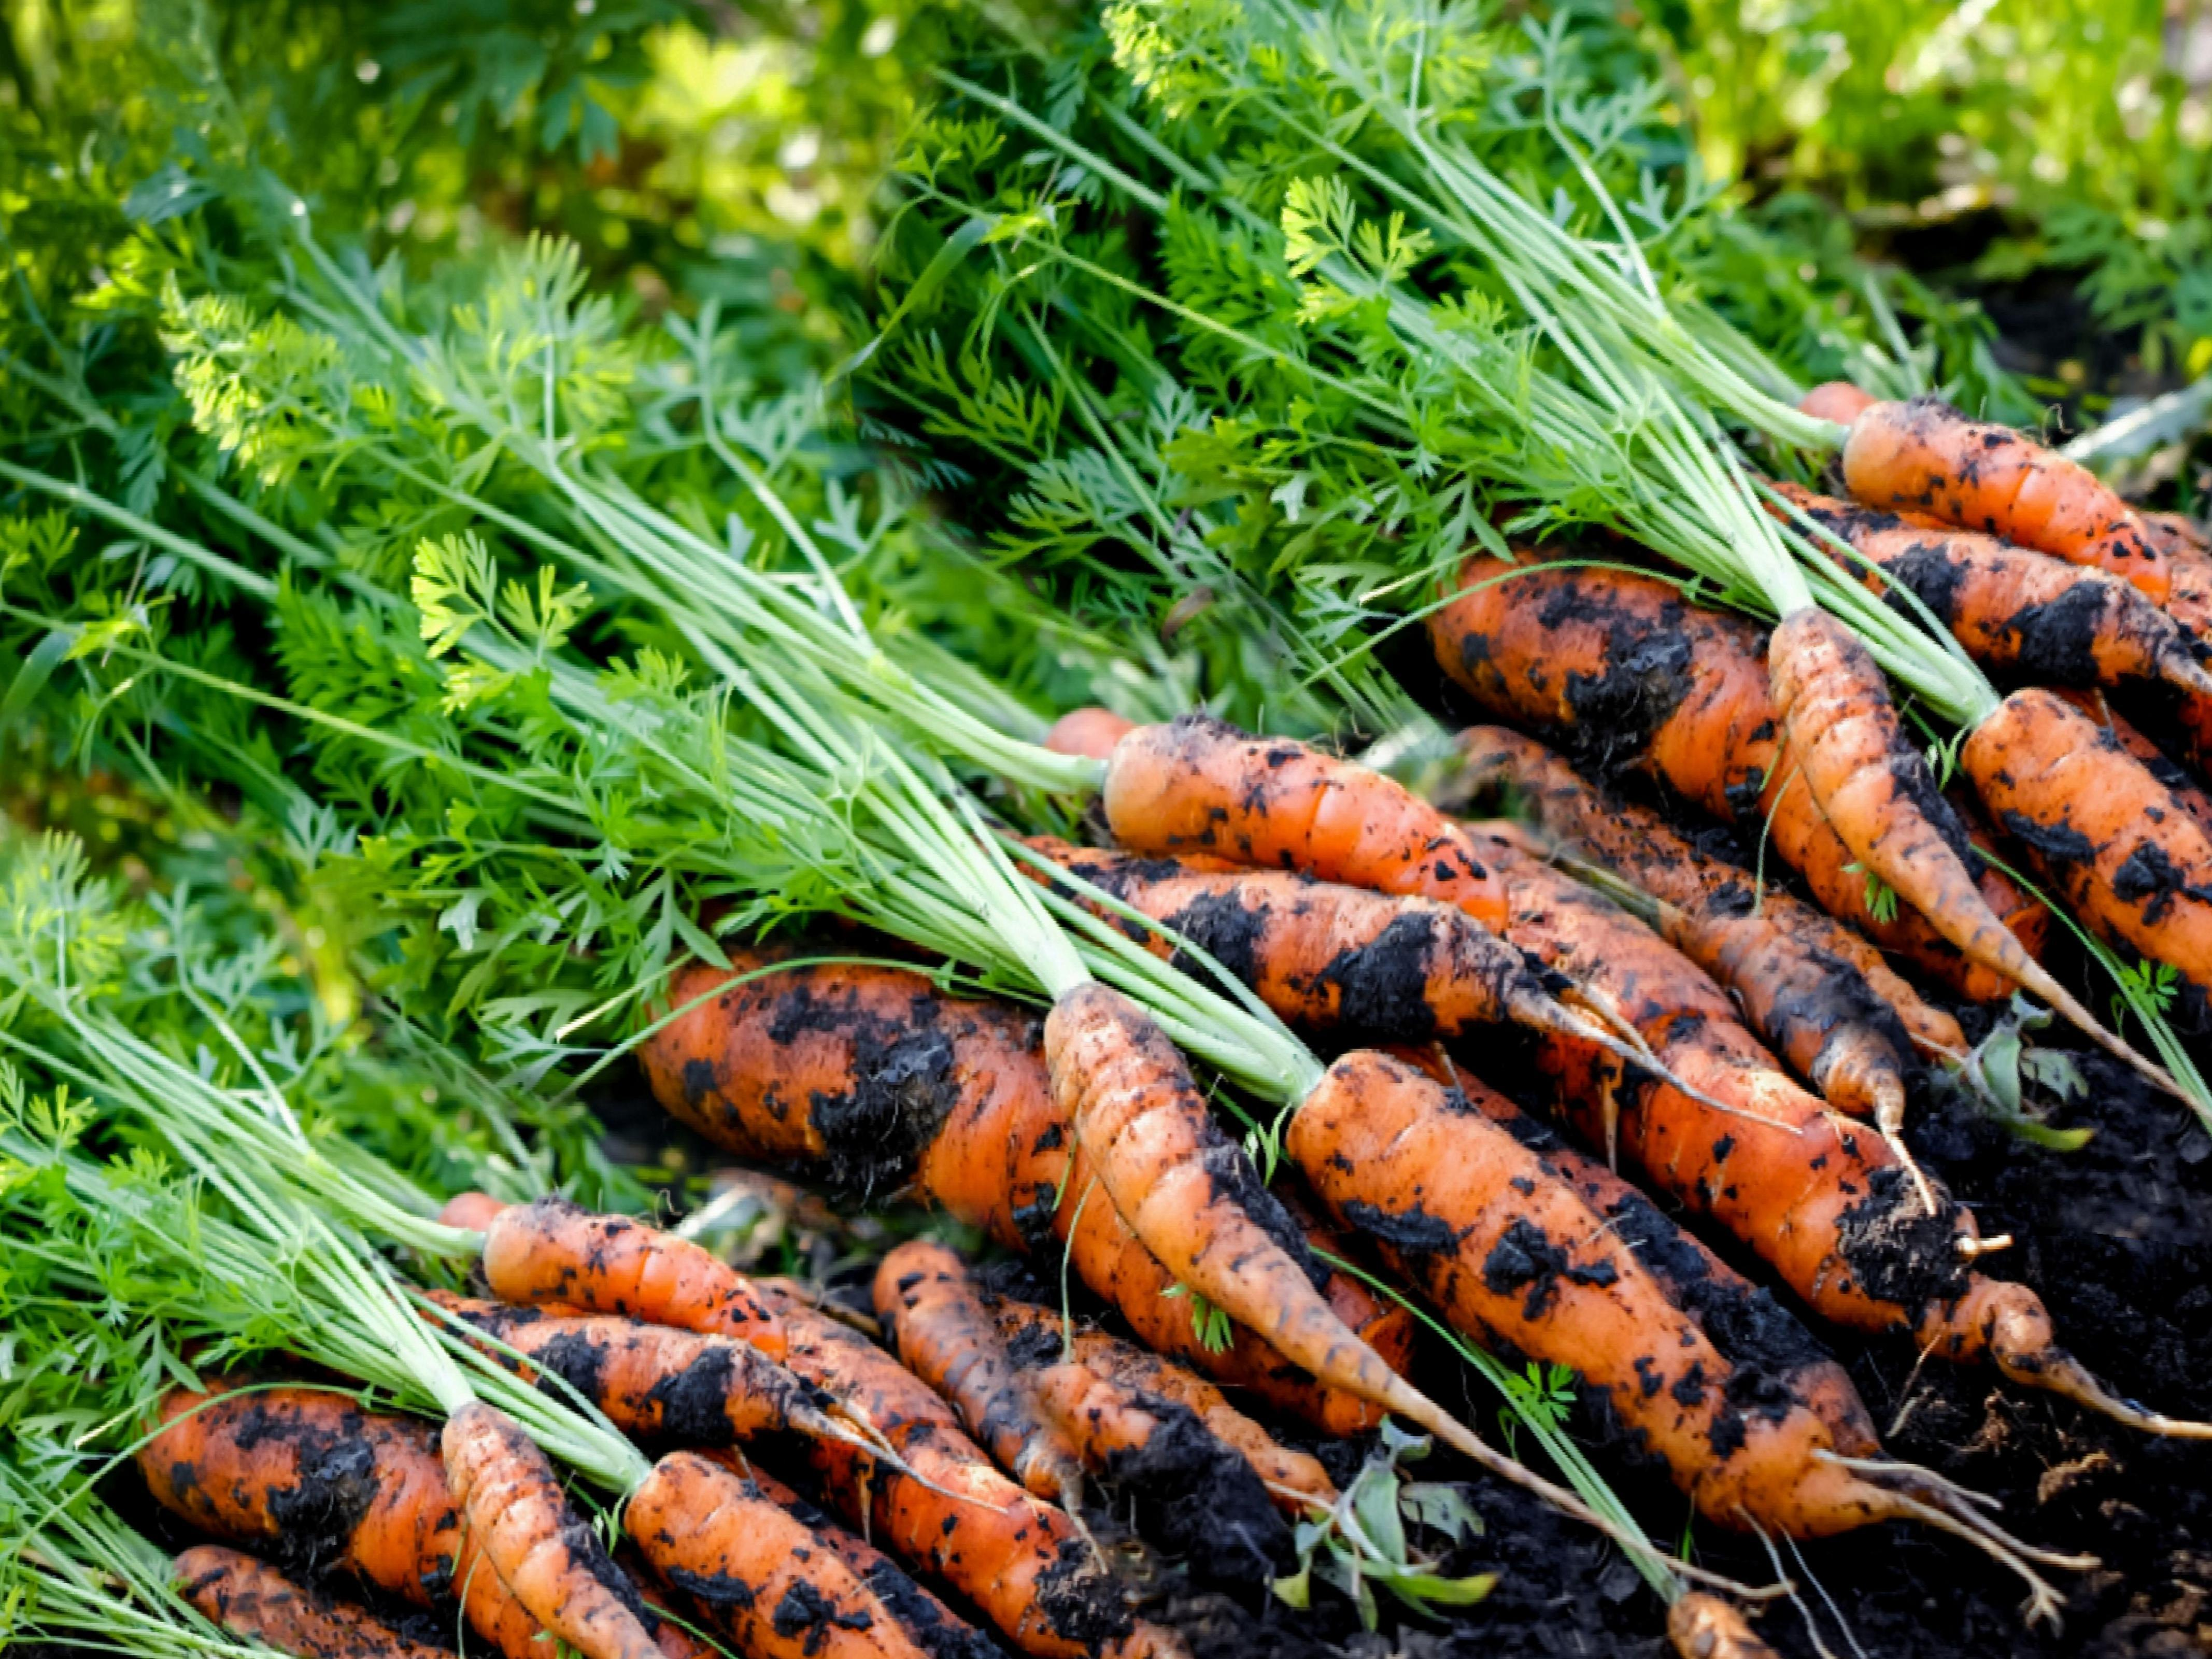carrot: (851, 443, 2212, 1659), (569, 941, 2104, 1659), (71, 1340, 724, 1659)
